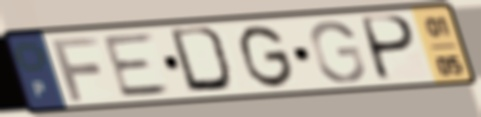D: (166, 24, 238, 95)
E: (99, 30, 176, 101)
F: (47, 34, 103, 104)
G: (237, 23, 298, 91), (307, 18, 368, 85)
P: (360, 13, 420, 84)
